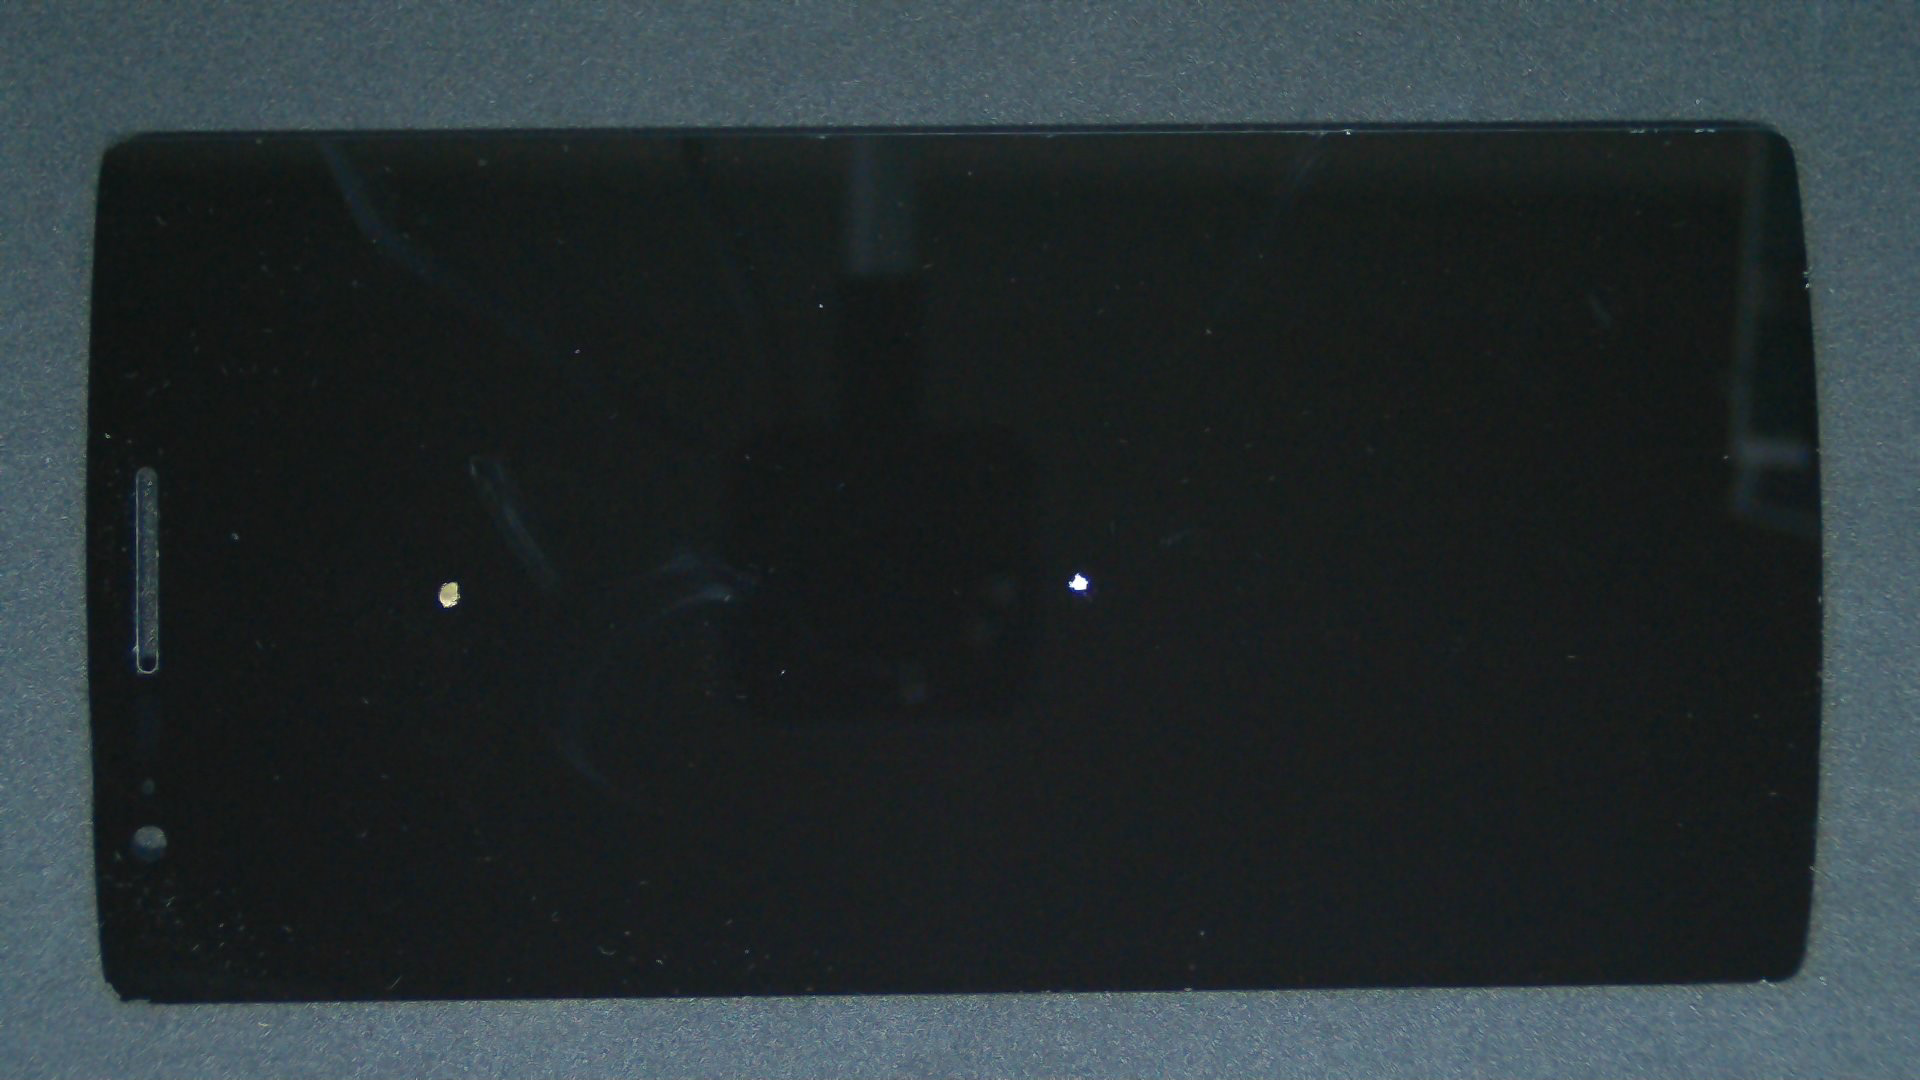defect: (436, 580, 462, 611), (1065, 570, 1091, 593)
